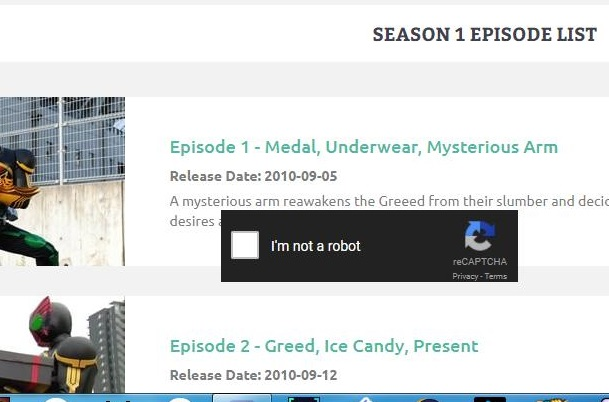captcha: (231, 231, 364, 259)
